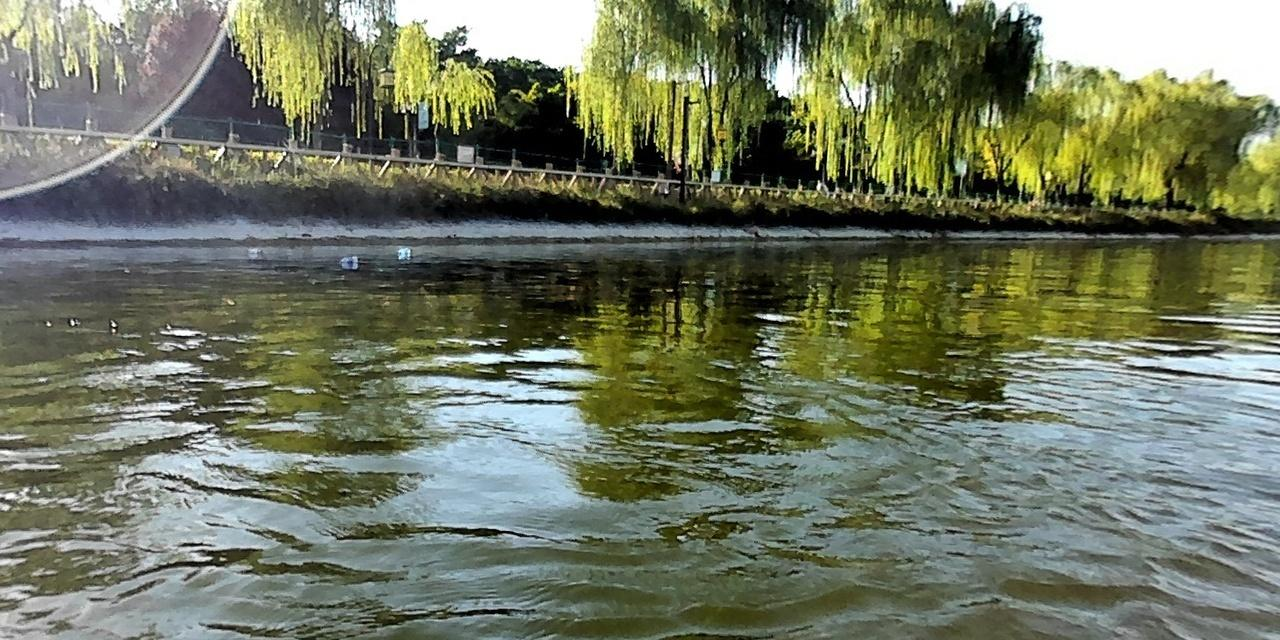bottle: (335, 253, 359, 263), (392, 245, 412, 256)
